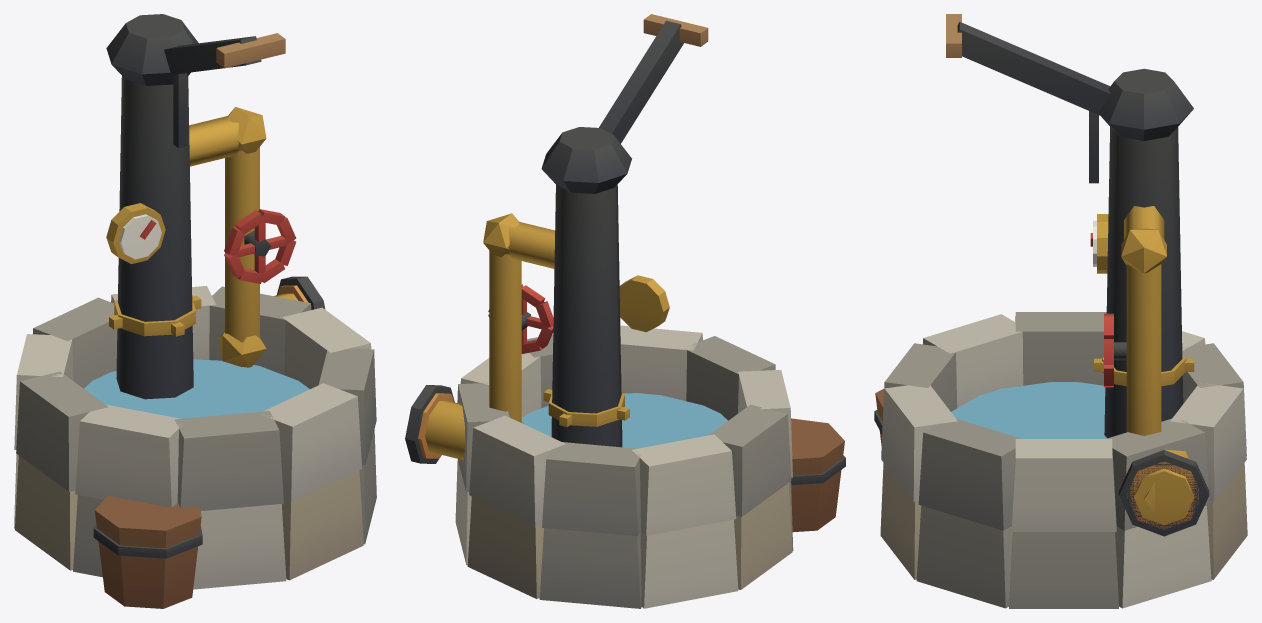
Rendered from mach_well_pump.glb.
3 views of the same model, side by side, from view 1: azimuth 30°, elevation 25°; view 2: azimuth 150°, elevation 25°; view 3: azimuth 270°, elevation 25° (orthographic). The views are drawn at different scales.
Visible parts, largest first — view 1: mach_well_pump; view 2: mach_well_pump; view 3: mach_well_pump.
Boxes of the visible parts, x1,y1,x2,y2 form: mach_well_pump: (14, 14, 376, 608); mach_well_pump: (405, 14, 845, 608); mach_well_pump: (874, 14, 1247, 608).
Size of the model in its own units: 3.75 by 5.62 by 3.73.
1 material, 1 textured.
